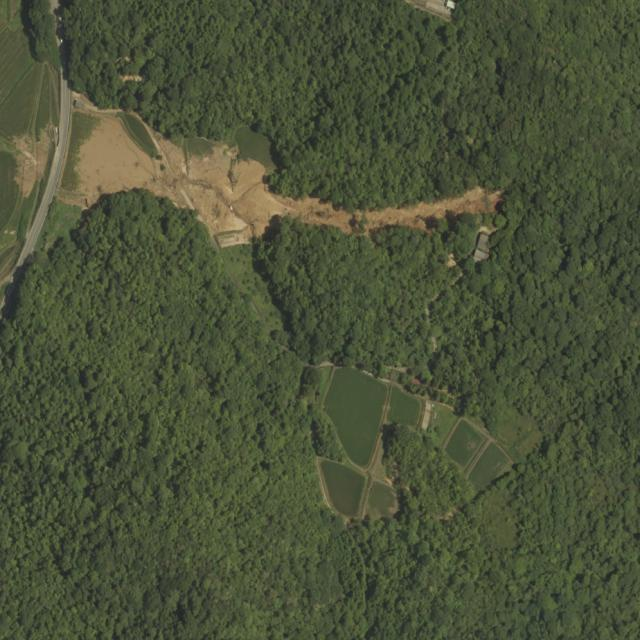landslide: (55, 92, 503, 246)
